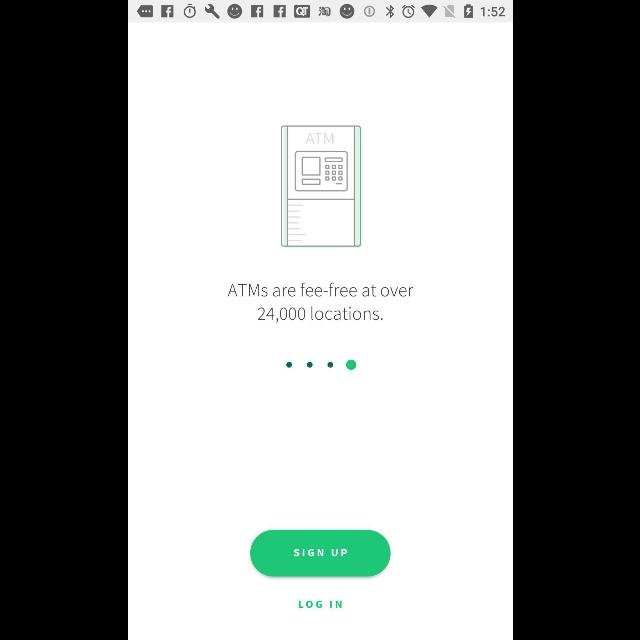image: (280, 125, 360, 247)
pageindicator: (286, 360, 356, 370)
text: (227, 282, 413, 324), (298, 600, 340, 608)
textbutton: (250, 530, 390, 576)
uppertaskbar: (128, 1, 512, 23)
